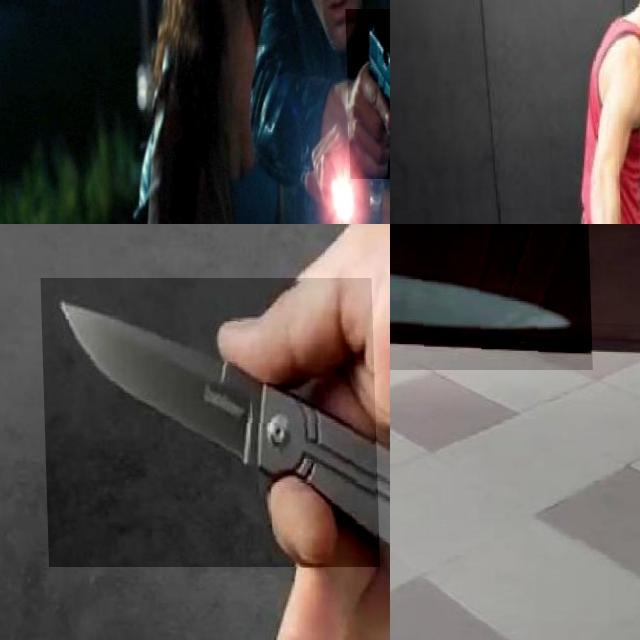-: (40, 278, 378, 567), (390, 224, 590, 370)
gun-knife-thesis - v11 Yolov5 augmented: (343, 8, 390, 179)
